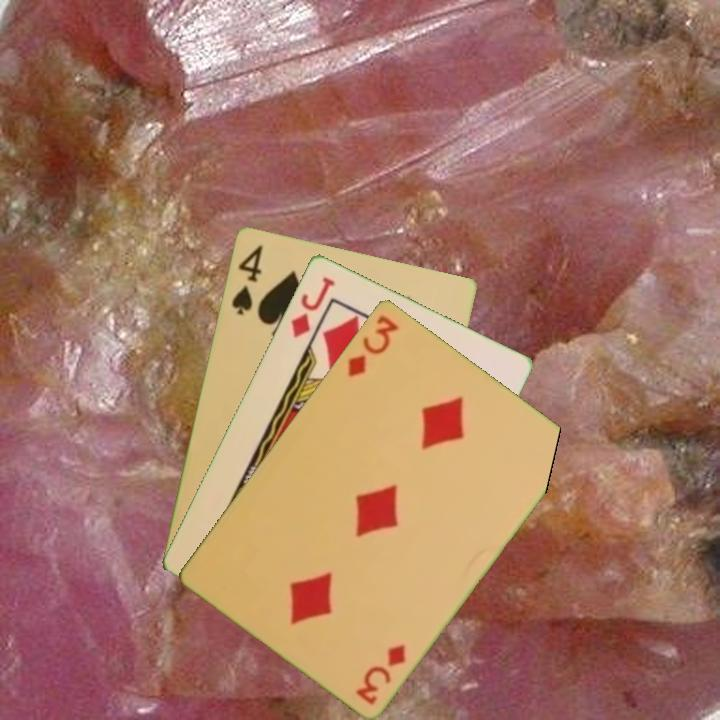3d: (344, 311, 402, 380), (352, 639, 409, 708)
4s: (227, 240, 265, 318)
Jd: (287, 272, 338, 340)
